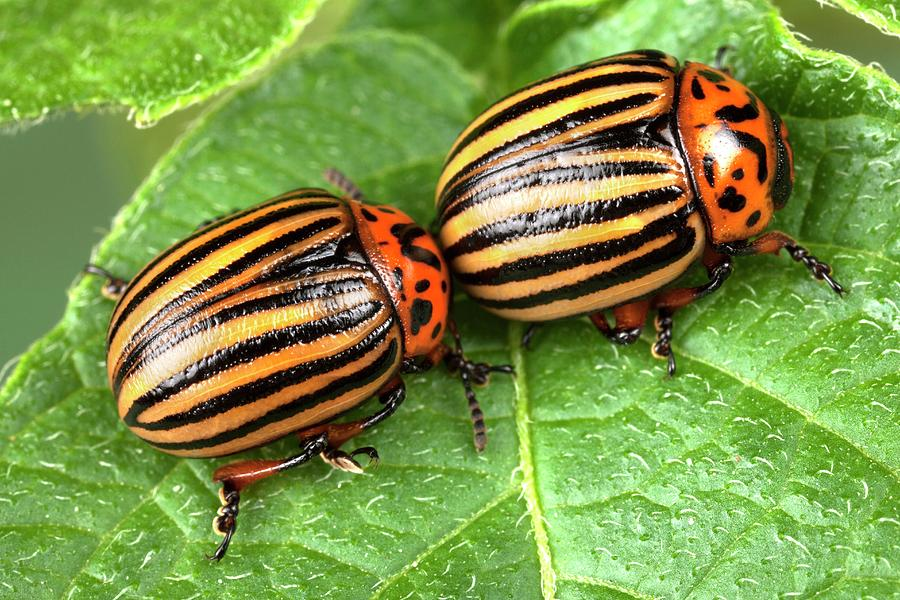Colorado Potato Beetle: (80, 166, 522, 565), (436, 28, 857, 391)
